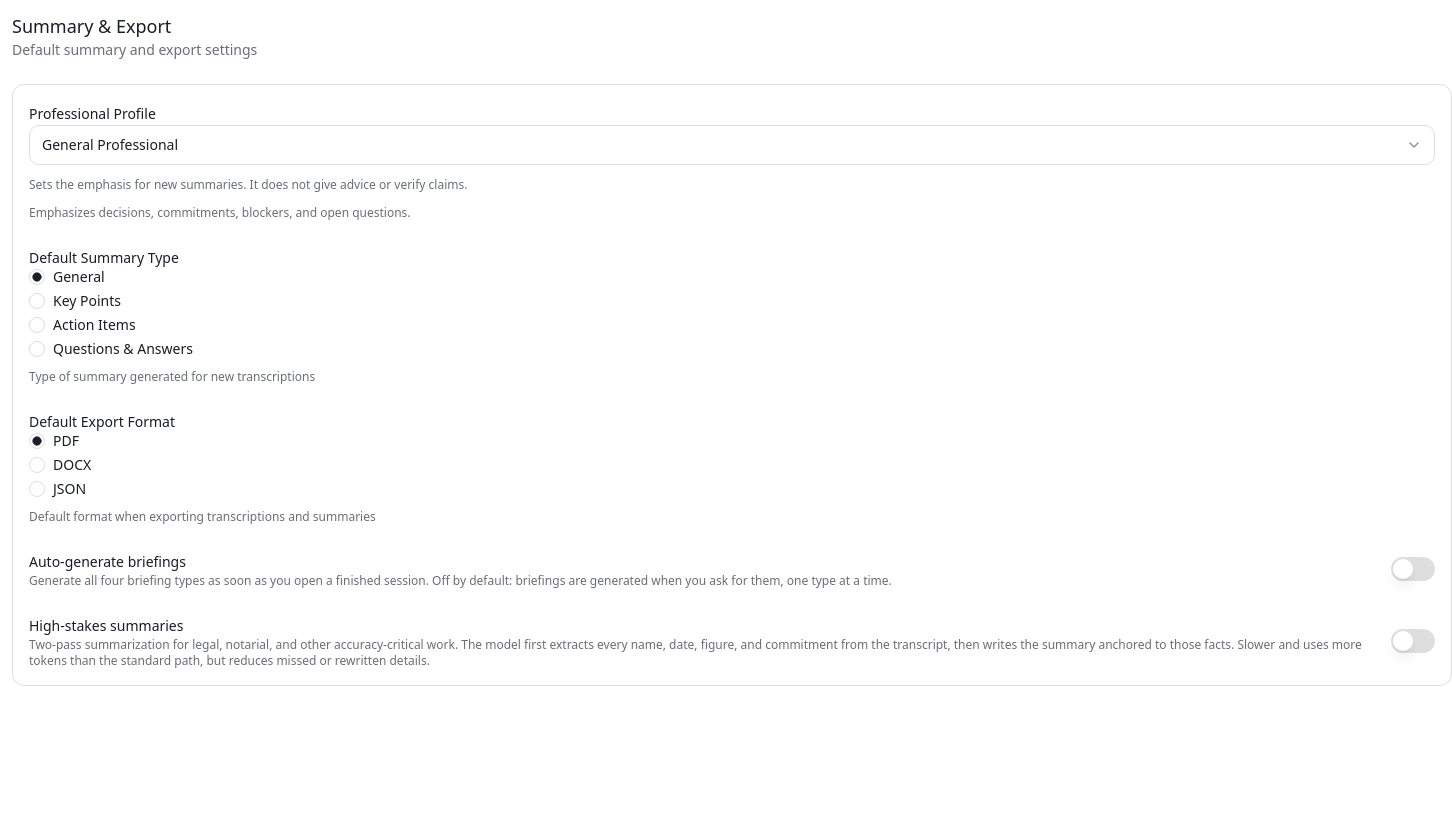
Test: SummarySection › renders all professional profiles when the feature is enabled
Check: the text "does not give advice or verify claims" is shown, box left=29, top=176, right=468, bottom=193
Click the dropdown named "professional profile" at (110, 144), box left=29, top=125, right=1435, bottom=165
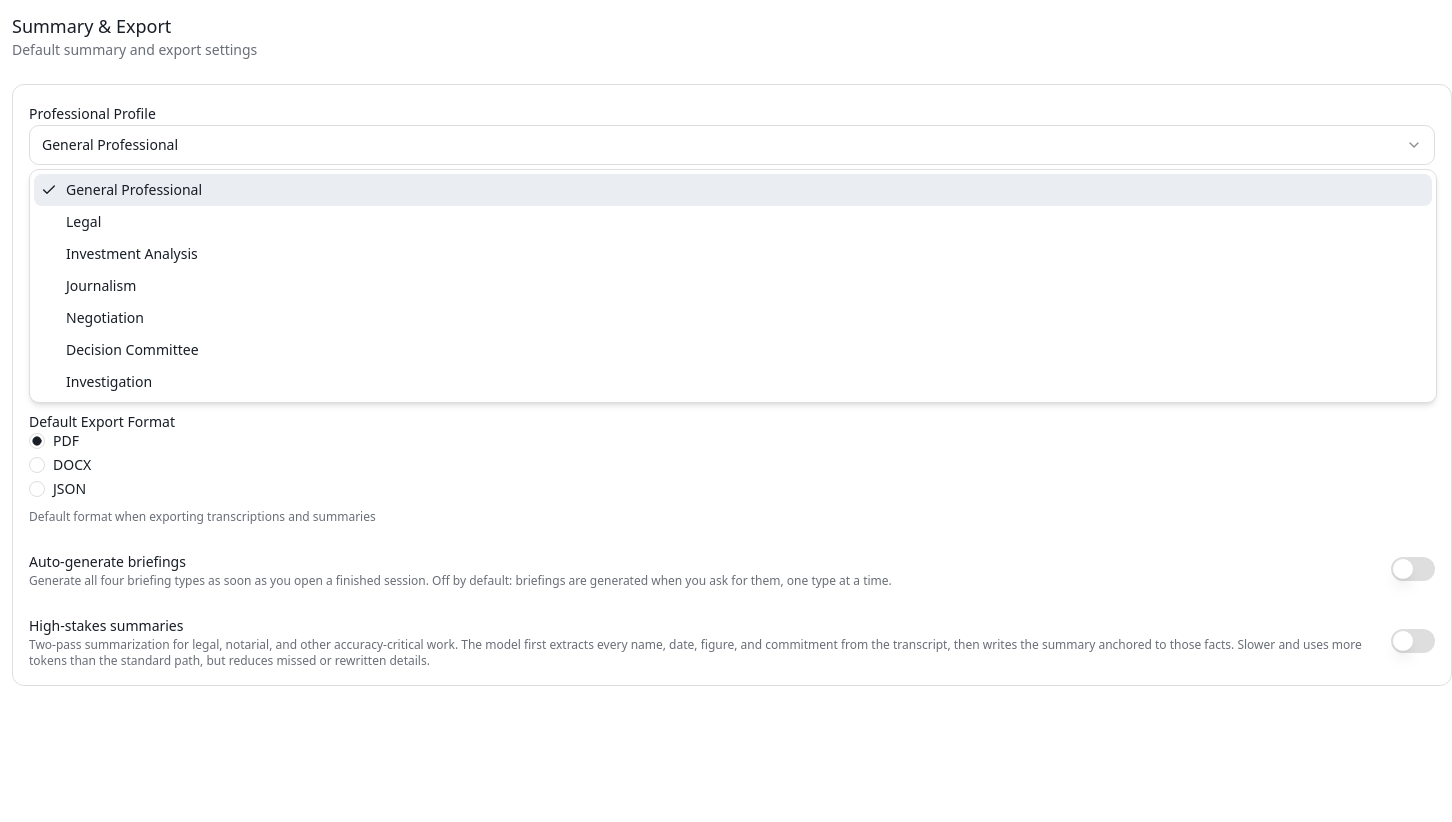
Check: the option "General Professional" is shown, box left=34, top=174, right=1432, bottom=206
Check: the option "Legal" is shown, box left=66, top=212, right=101, bottom=231
Check: the option "Investment Analysis" is shown, box left=66, top=244, right=198, bottom=263
